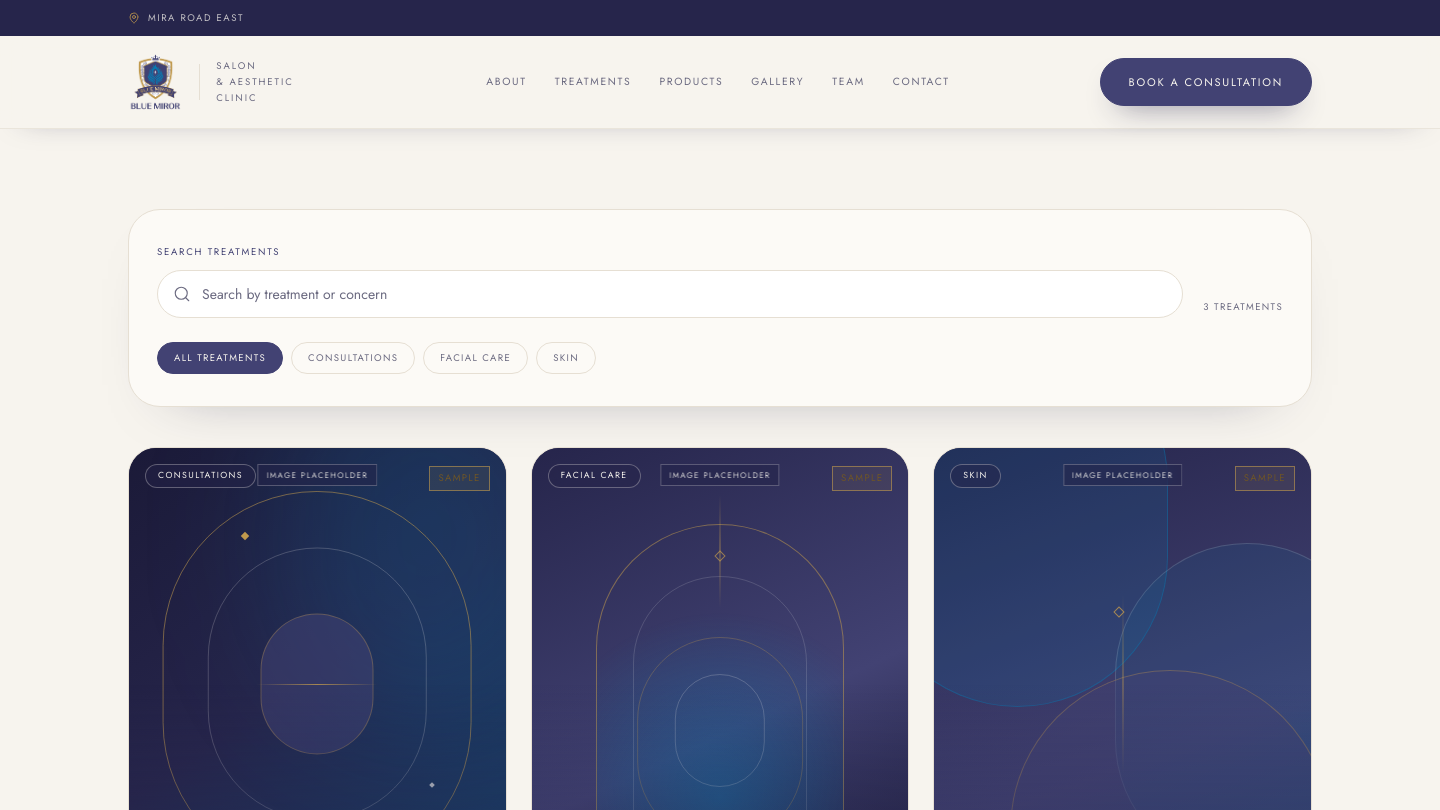
TreatmentsPage › filters API-driven treatments through the search field
The image size is (1440, 810).
Type "facial" into the search field labelled "Search treatments".
click(670, 294); type("facial")  # box 157,270 -> 1183,318
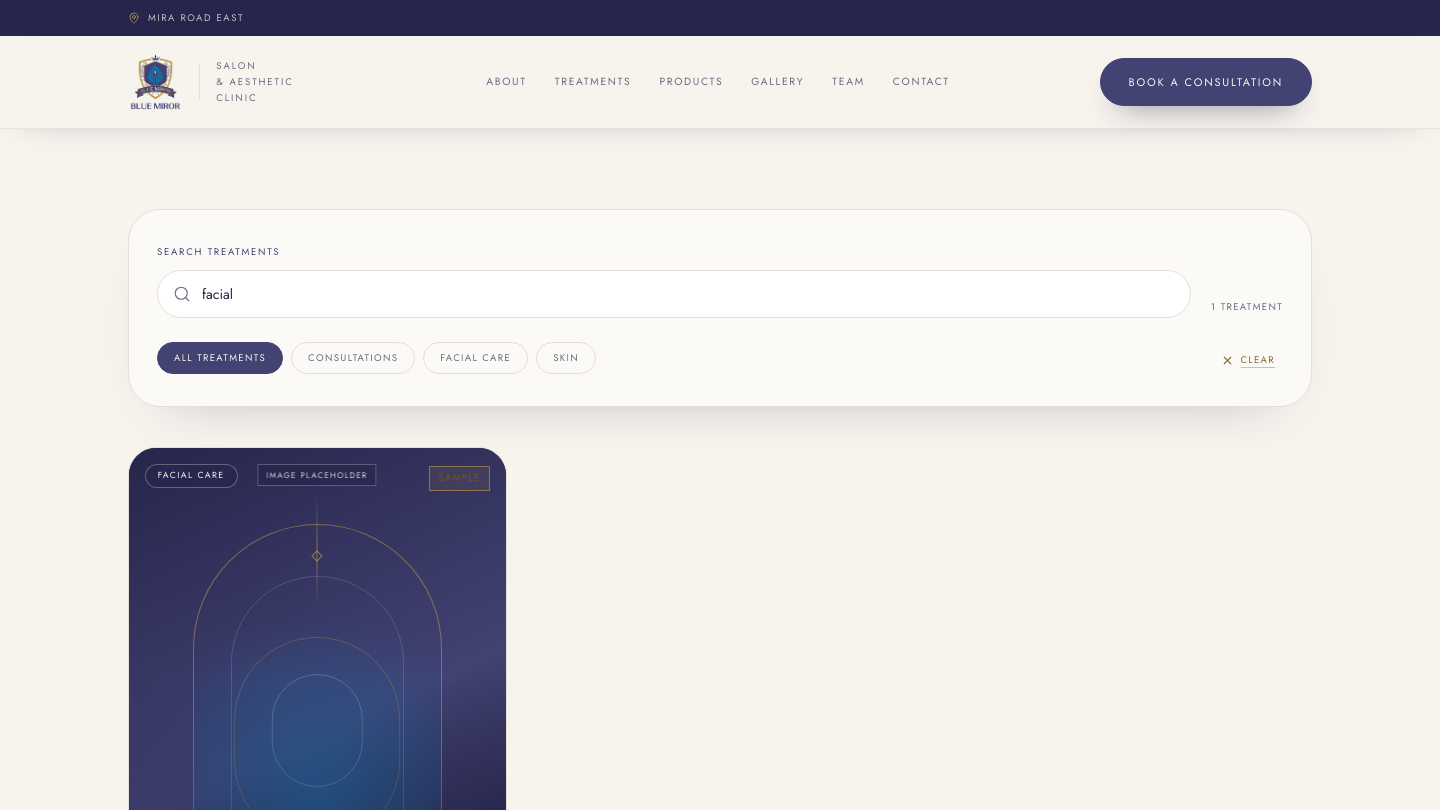
Check: the text "1 treatment" is shown, box 1211,300 -> 1283,314
